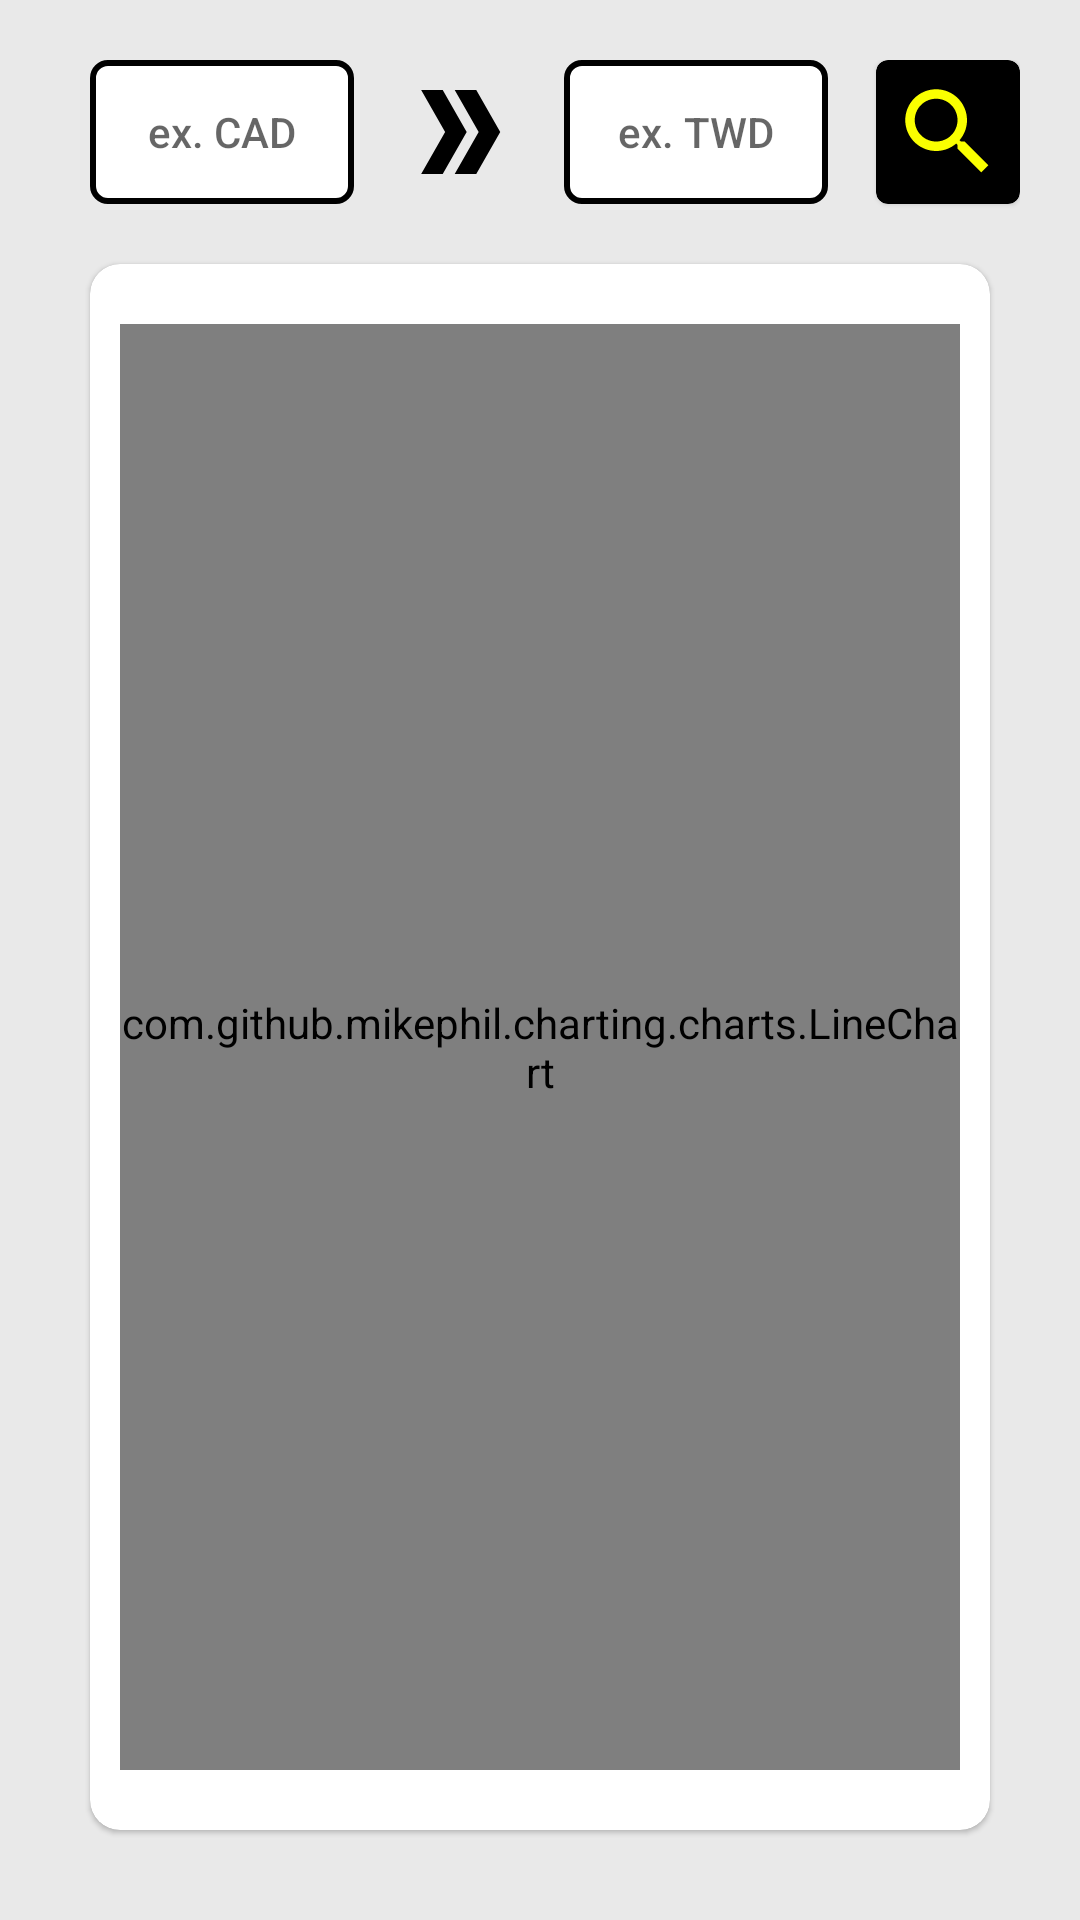

Point at icon controls on the screen. Image size 1080×1920, points as (x,y).
double arrow: (460,132)
search: (947,131)
